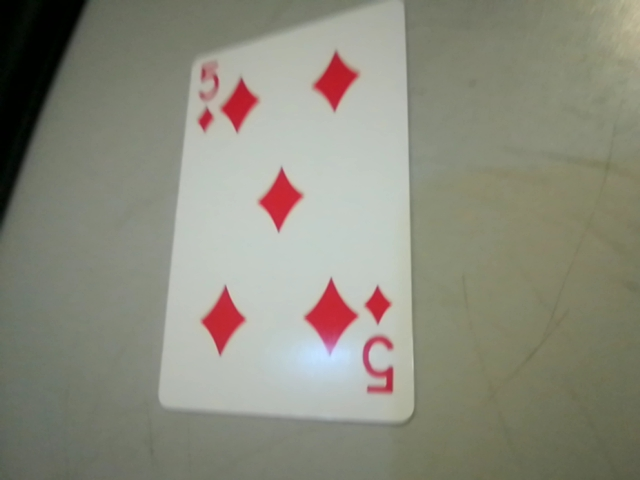fk 5: (350, 277, 408, 407)
